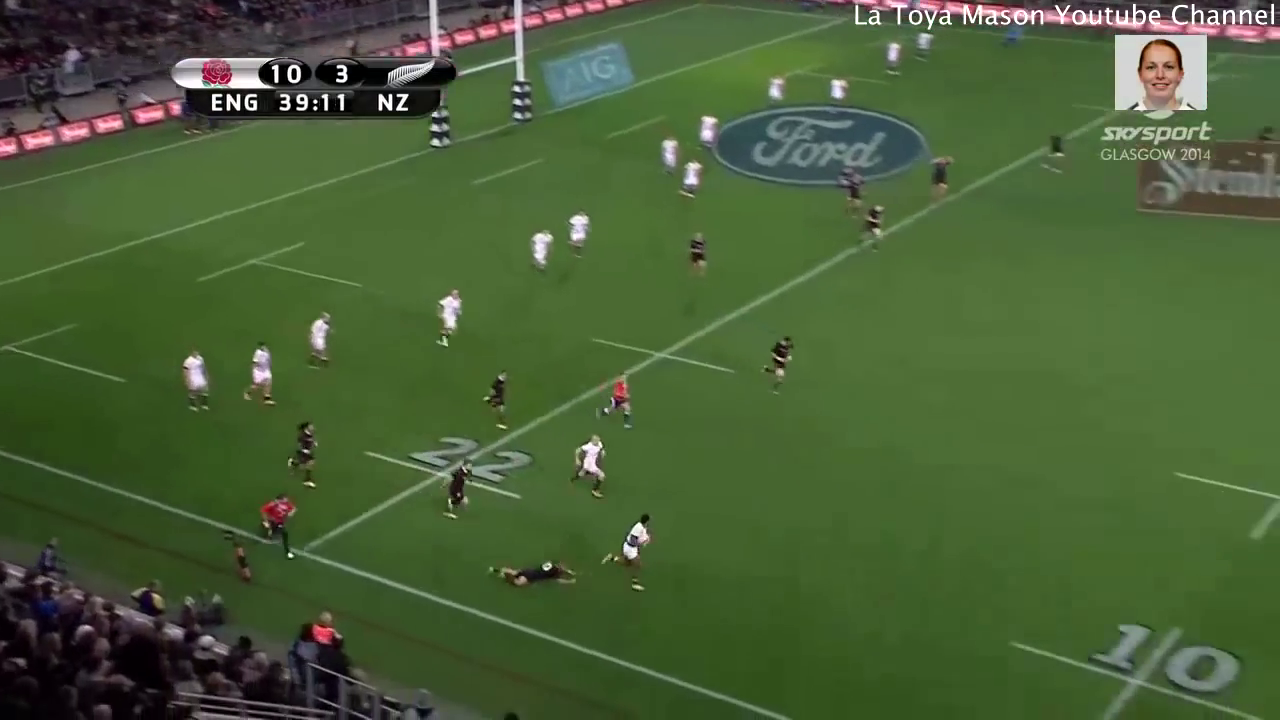10_metre: (1005, 615, 1280, 720), (1173, 465, 1280, 543)
player: (598, 505, 658, 597), (485, 554, 583, 592), (174, 346, 218, 418), (568, 429, 610, 499), (255, 491, 297, 561), (283, 416, 322, 491), (757, 331, 801, 397), (591, 371, 637, 432), (429, 285, 469, 353), (299, 308, 341, 372), (435, 458, 474, 522), (245, 339, 279, 407), (853, 200, 889, 256), (479, 368, 510, 433), (521, 225, 555, 283), (562, 204, 596, 261), (681, 230, 715, 280), (925, 153, 956, 200), (1041, 125, 1067, 178), (691, 109, 719, 155), (656, 132, 682, 180), (840, 168, 866, 212), (678, 155, 704, 198), (883, 37, 905, 80), (825, 73, 849, 112), (762, 73, 788, 107), (912, 32, 940, 63)
post: (411, 1, 544, 140)
